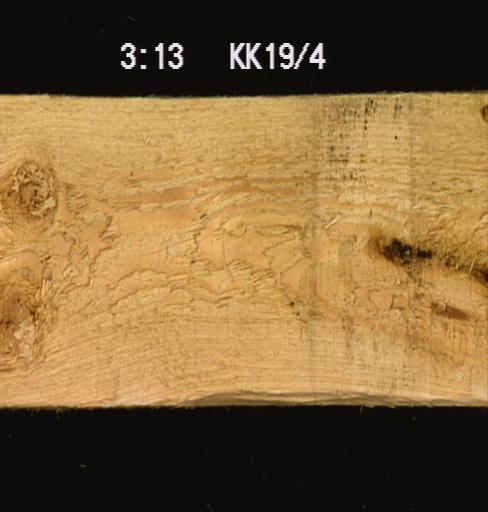dry_knot: (479, 101, 487, 124)
sound_knot: (0, 244, 70, 378), (0, 156, 60, 228)
wave: (149, 365, 487, 407)
